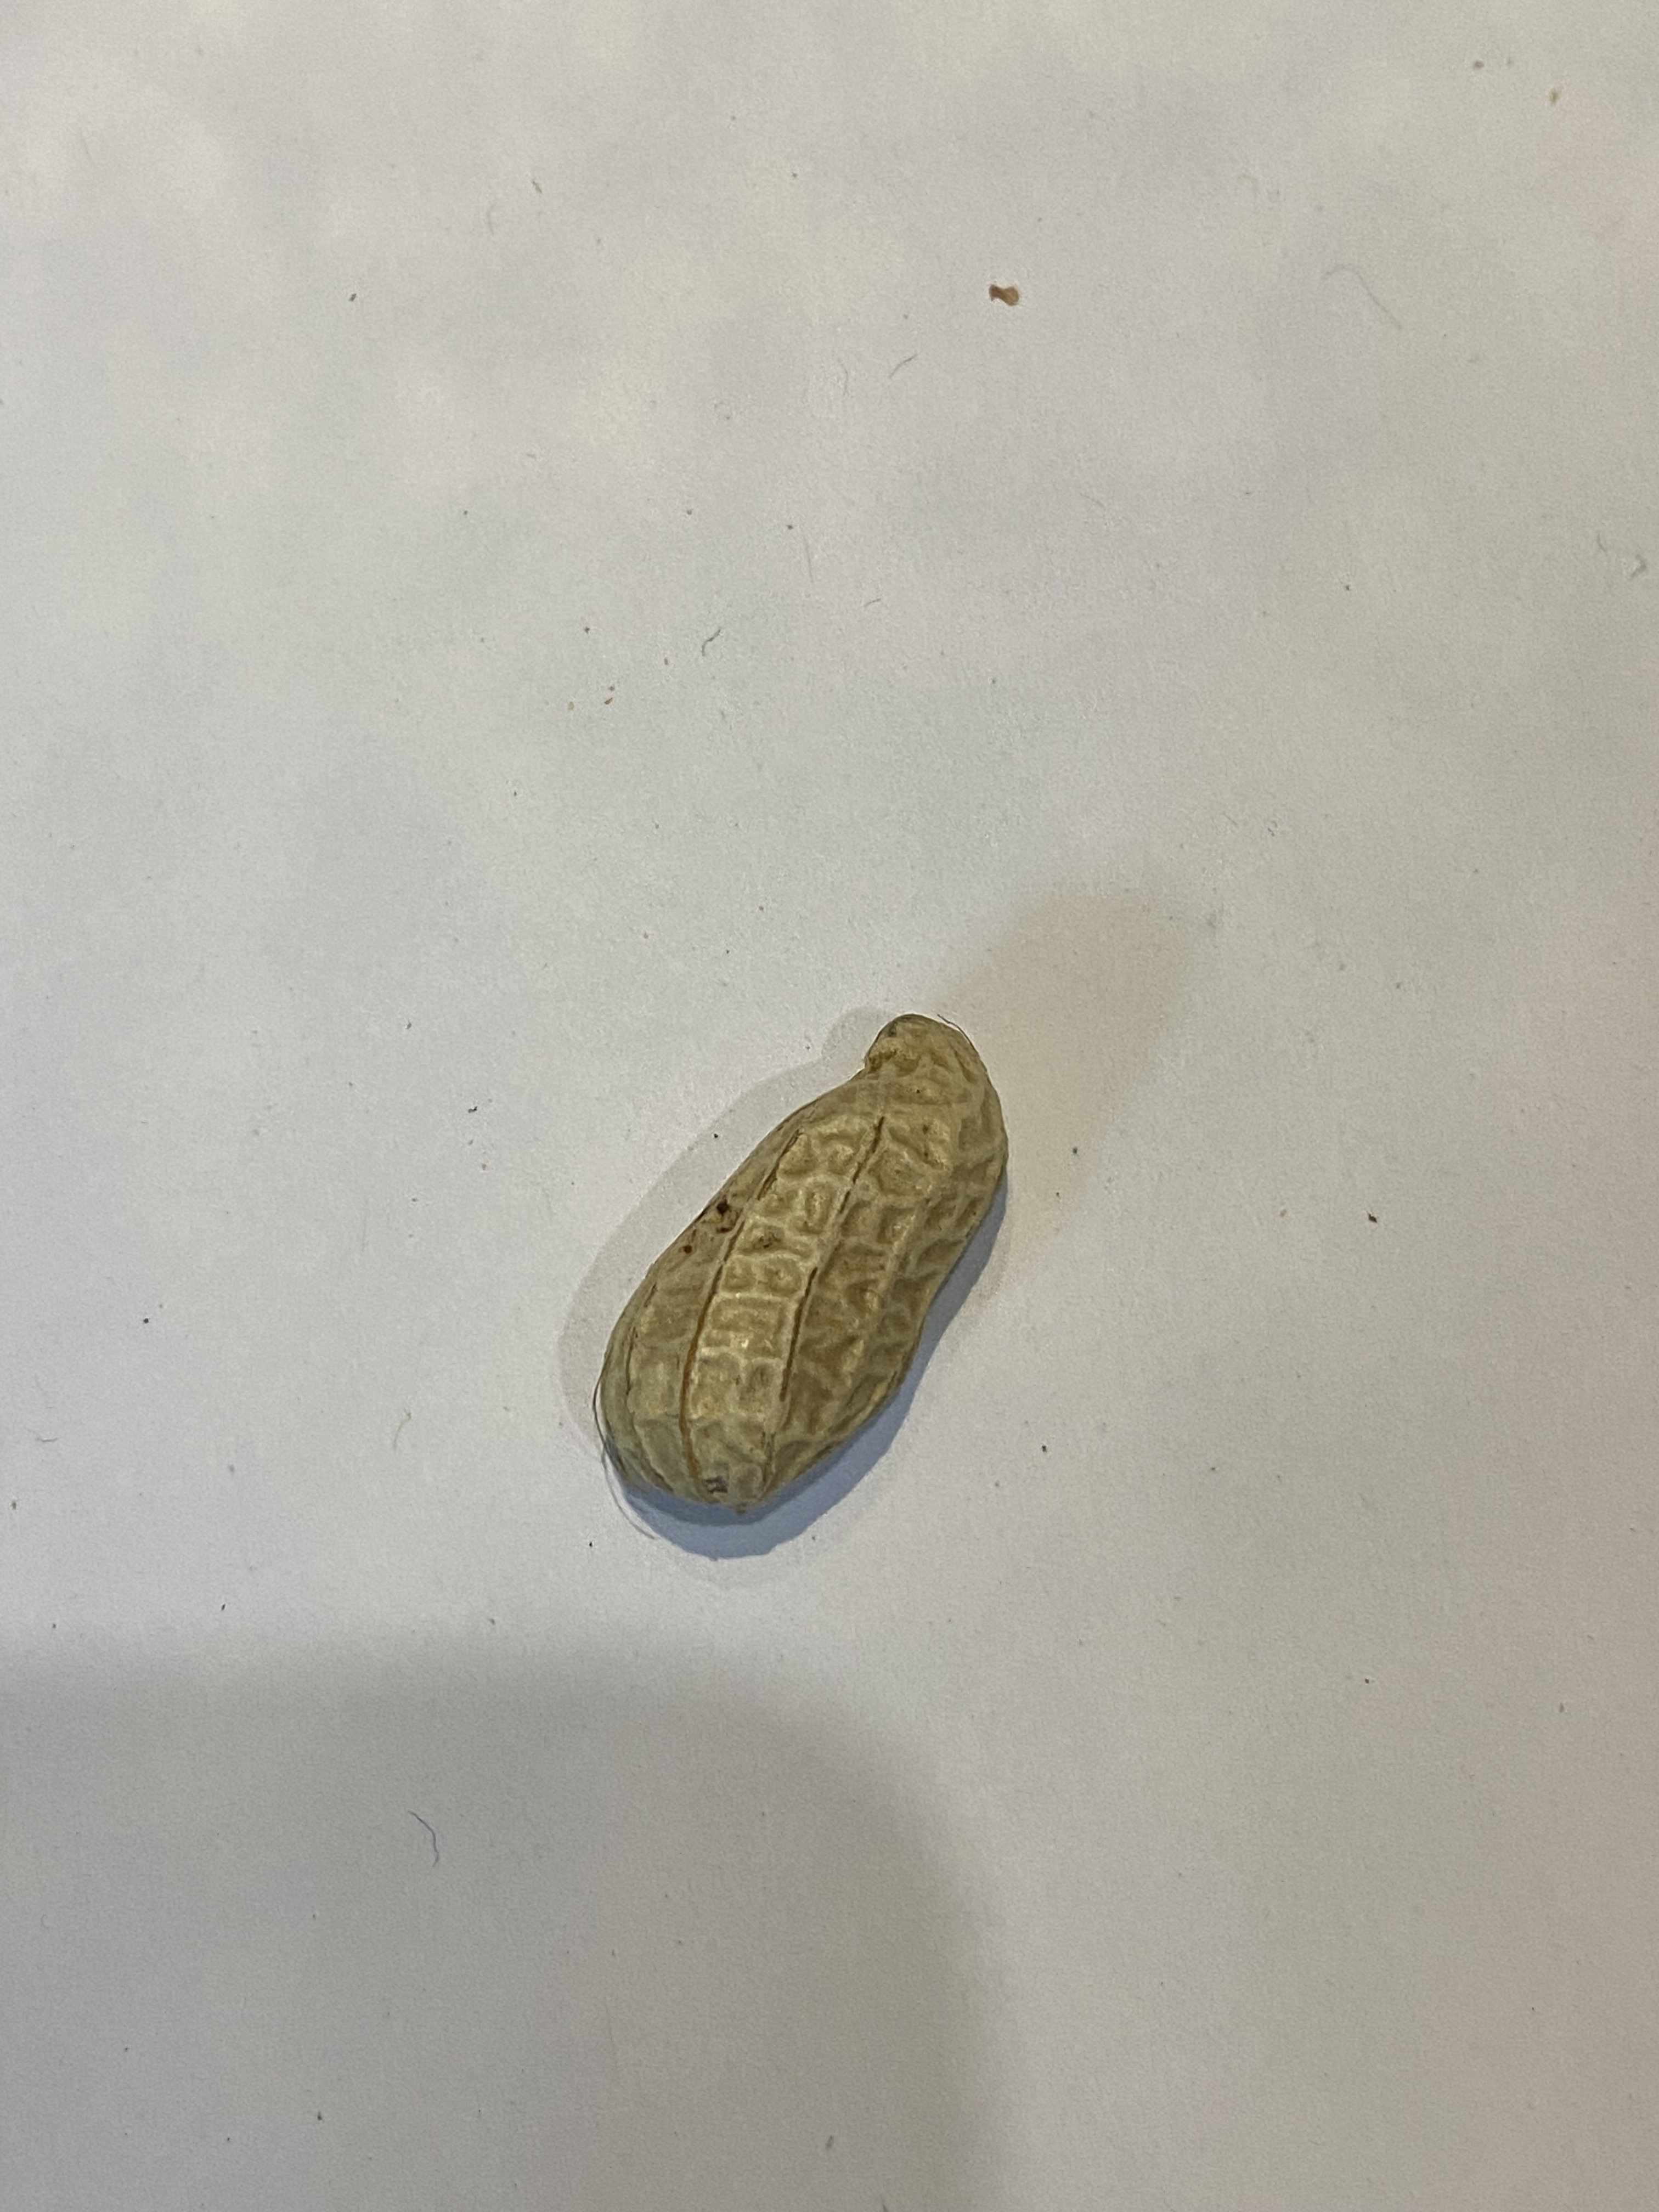kacang2: (586, 995, 1016, 1540)
